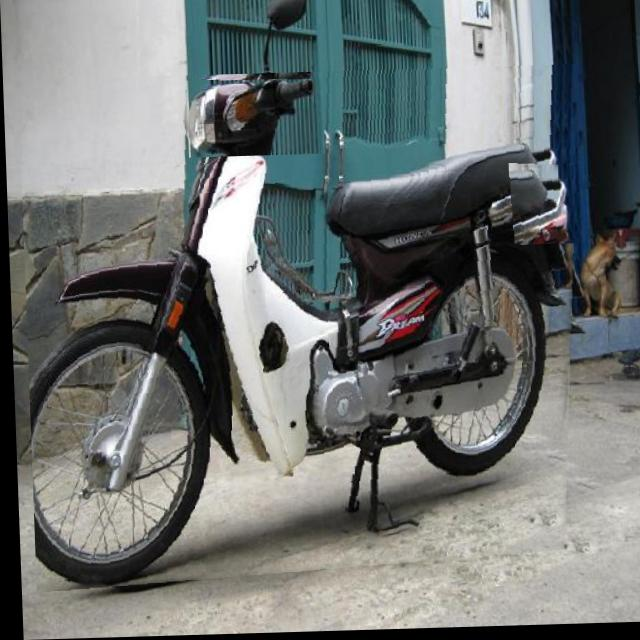All: (17, 68, 595, 595)
Head: (185, 78, 324, 159)
Tail: (507, 165, 574, 248)
